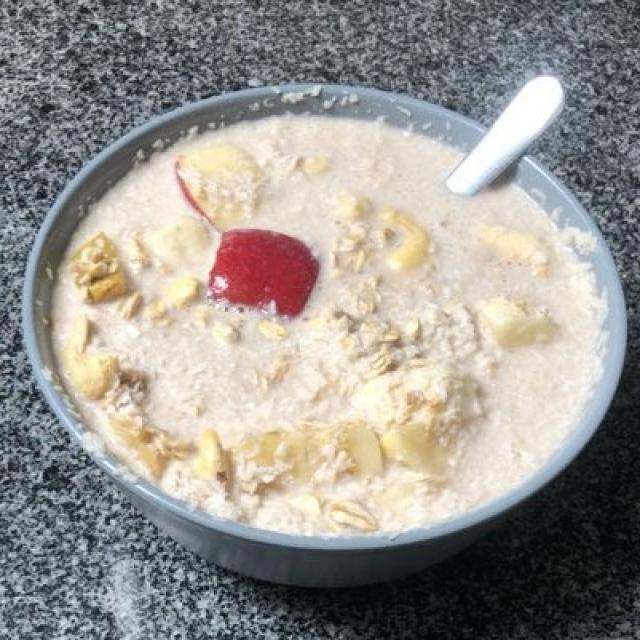oats: (61, 116, 599, 526)
